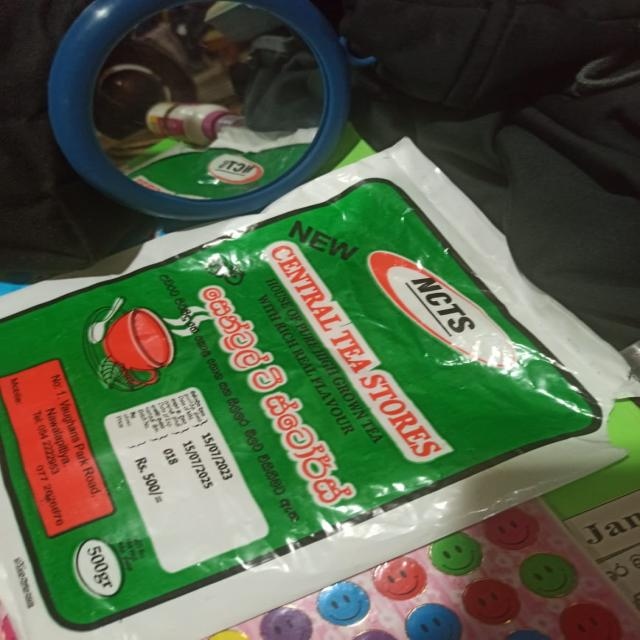Central Tea: (0, 174, 622, 604)
